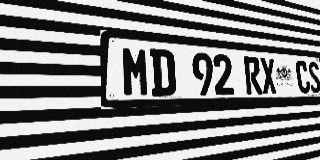2: (213, 53, 234, 95)
9: (192, 52, 215, 96)
C: (295, 60, 311, 93)
D: (150, 48, 176, 96)
M: (121, 46, 151, 97)
R: (243, 56, 263, 94)
S: (307, 61, 320, 93)
X: (259, 57, 278, 94)
